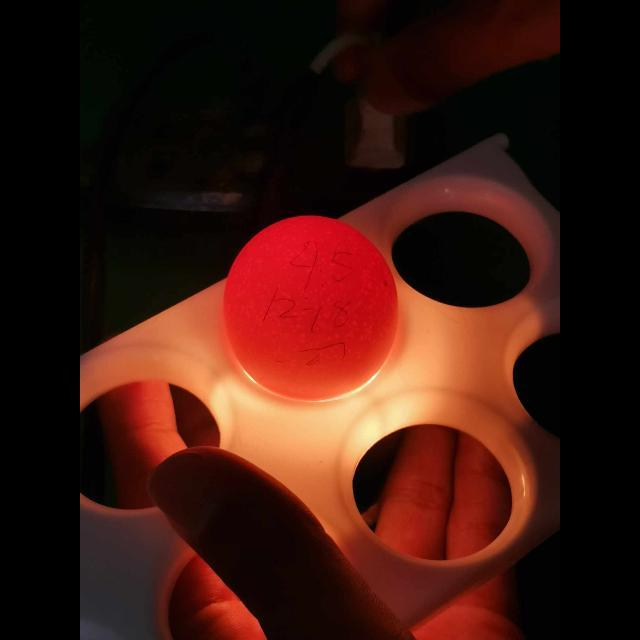Infertile: (222, 210, 398, 396)
